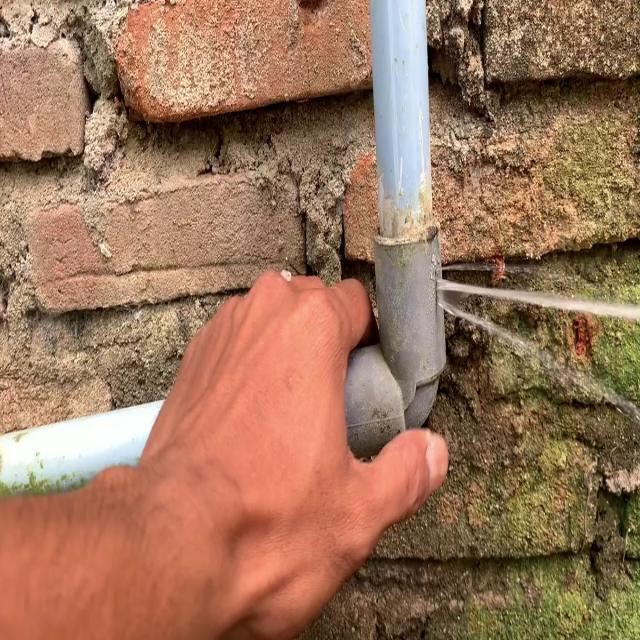leak: (431, 266, 640, 438)
